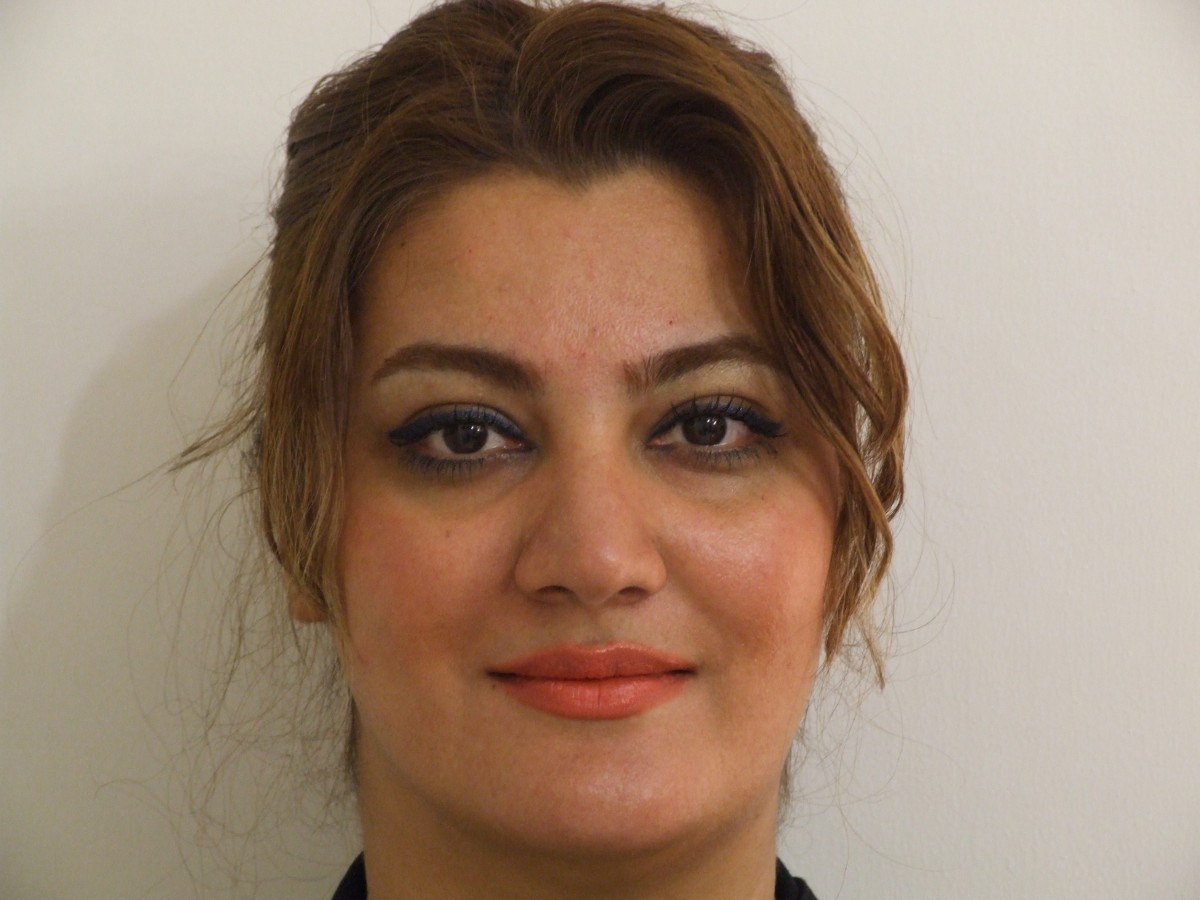neo: (470, 680, 501, 712), (437, 523, 464, 557)
occhiaia: (637, 445, 809, 528), (384, 454, 559, 532)
